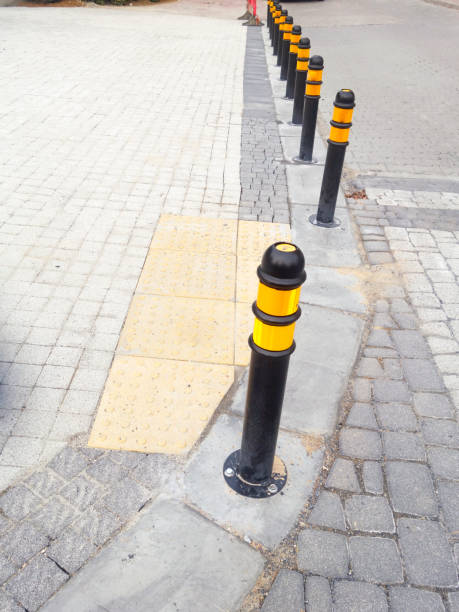bollard: (218, 237, 293, 510), (305, 87, 364, 227)
